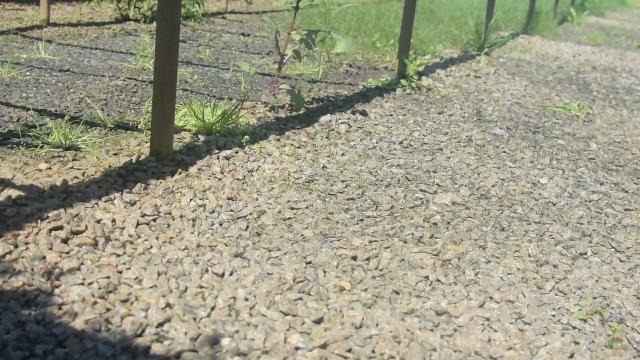MalezaMontesDelPlata: (0, 95, 122, 153), (174, 55, 260, 137), (261, 0, 309, 102), (308, 0, 359, 83), (455, 11, 520, 56), (540, 91, 601, 124), (117, 36, 157, 75), (398, 54, 434, 94), (24, 28, 65, 63), (0, 59, 30, 83)
